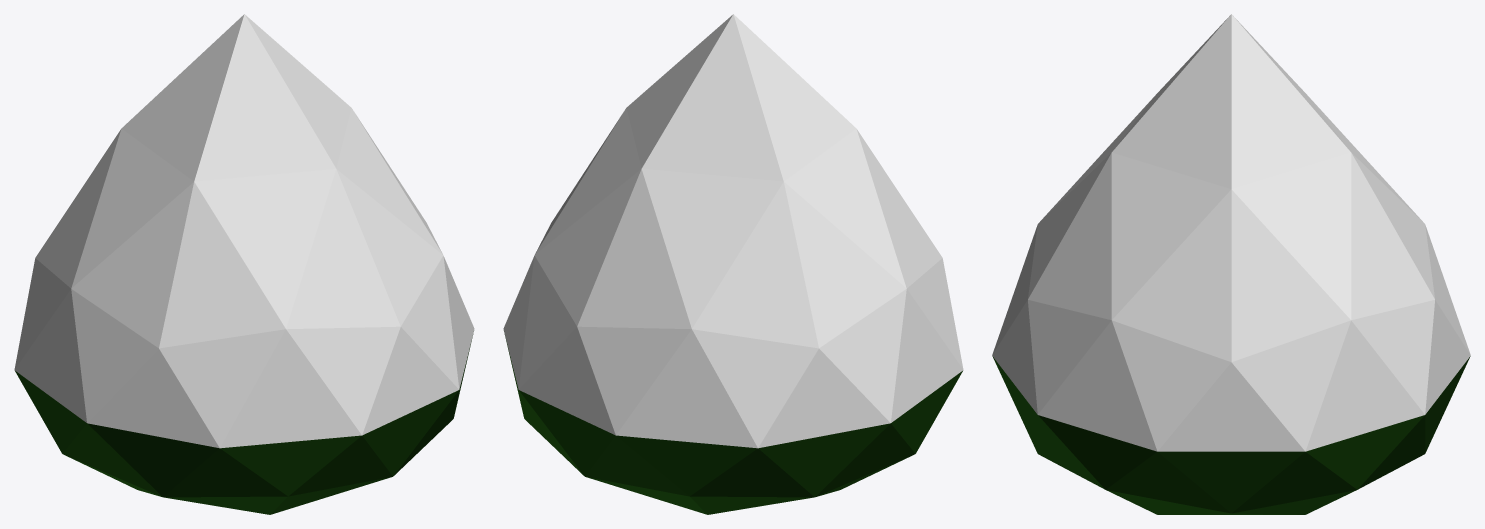
File: Bush_1_Snow.fbx
3 views of the same model, side by side, from view 1: azimuth 30°, elevation 25°; view 2: azimuth 150°, elevation 25°; view 3: azimuth 270°, elevation 25° (orthographic).
Parts seen in each view (by area): view 1: Bush_1_Snow; view 2: Bush_1_Snow; view 3: Bush_1_Snow.
Boxes of the visible parts, <box> form: Bush_1_Snow: <box>14,14,474,514</box>; Bush_1_Snow: <box>503,14,963,514</box>; Bush_1_Snow: <box>992,14,1470,514</box>.
Bounding box in the file's own units: 94.76 × 110 × 99.63.
